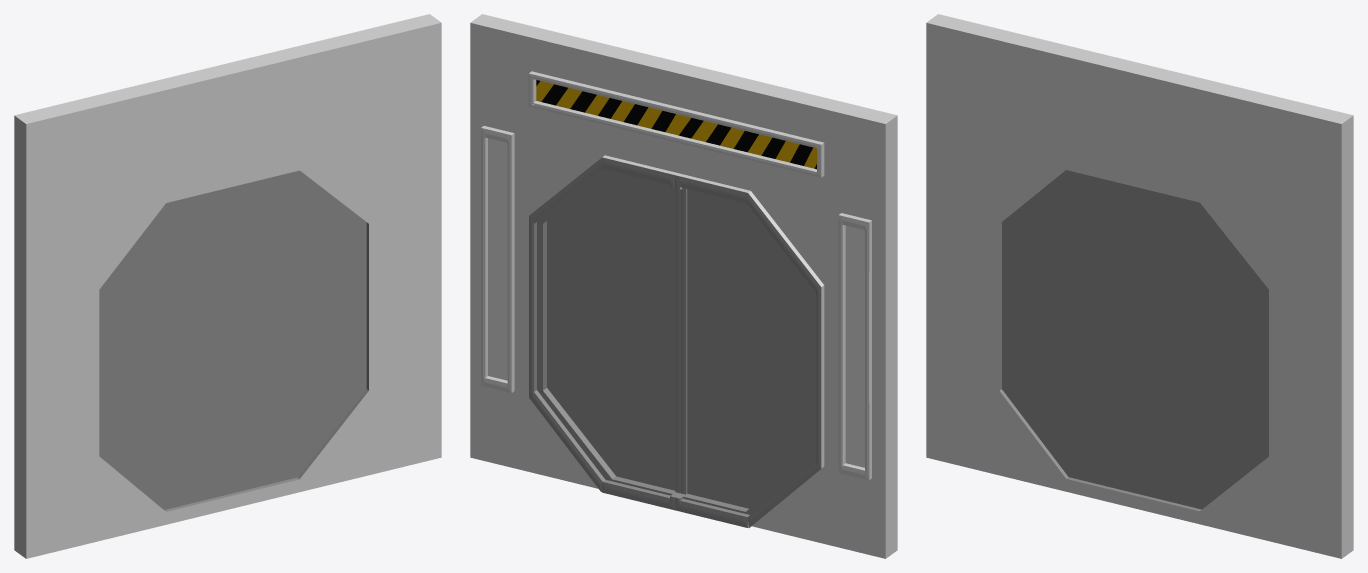
File: CorridorEndWall_OpeningDoors.fbx
3 views of the same model, side by side, from view 1: azimuth 30°, elevation 25°; view 2: azimuth 150°, elevation 25°; view 3: azimuth 330°, elevation 25° (orthographic).
Parts seen in each view (by area): view 1: Wall Back without Door, Wall Back Door L, Wall Back Door R; view 2: Wall Back without Door, Wall Back Door L, Wall Back Door R; view 3: Wall Back without Door, Wall Back Door R, Wall Back Door L.
Part boxes in pixels (bbox=[...]): Wall Back without Door: bbox=[14, 14, 441, 558]; Wall Back Door L: bbox=[231, 170, 366, 493]; Wall Back Door R: bbox=[99, 187, 231, 509]; Wall Back without Door: bbox=[470, 14, 897, 558]; Wall Back Door L: bbox=[547, 170, 680, 493]; Wall Back Door R: bbox=[680, 188, 812, 508]; Wall Back without Door: bbox=[926, 14, 1353, 558]; Wall Back Door R: bbox=[1002, 170, 1136, 493]; Wall Back Door L: bbox=[1136, 187, 1268, 509].
Bounding box in the file's own units: 400 × 400 × 25.
